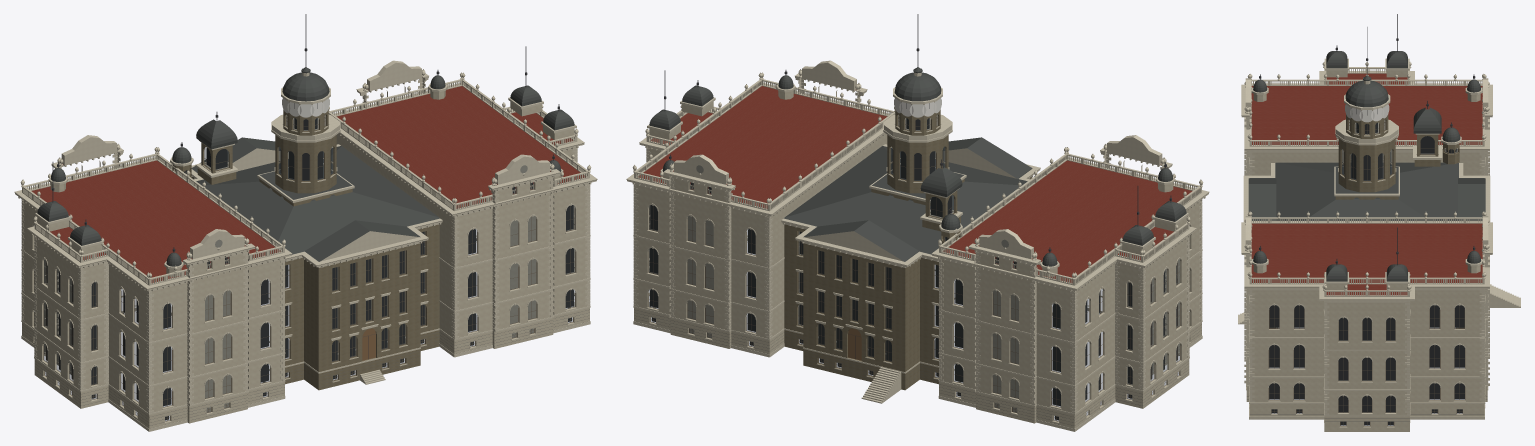
The model's file is cook_county_court_house_1871__court_house_1870_1871.glb.
The picture shows the model from 3 angles, left to right: view 1: azimuth 30°, elevation 25°; view 2: azimuth 150°, elevation 25°; view 3: azimuth 270°, elevation 25°; orthographic projection. The views are drawn at different scales.
Visible parts, largest first — view 1: cook_county_court_house_1871__court_house_1870_1871; view 2: cook_county_court_house_1871__court_house_1870_1871; view 3: cook_county_court_house_1871__court_house_1870_1871.
Part boxes in pixels (x1,y1,x2,y2): cook_county_court_house_1871__court_house_1870_1871: [14, 14, 597, 431]; cook_county_court_house_1871__court_house_1870_1871: [626, 14, 1209, 431]; cook_county_court_house_1871__court_house_1870_1871: [1238, 14, 1520, 431].
Size of the model in its own units: 90.96 by 54.5 by 47.62.
Materials: 12 (4 with a texture image).
